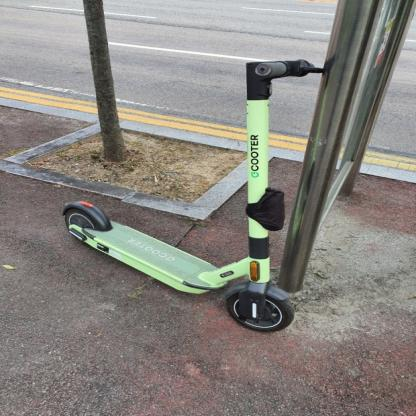kickboard: (62, 60, 322, 332)
